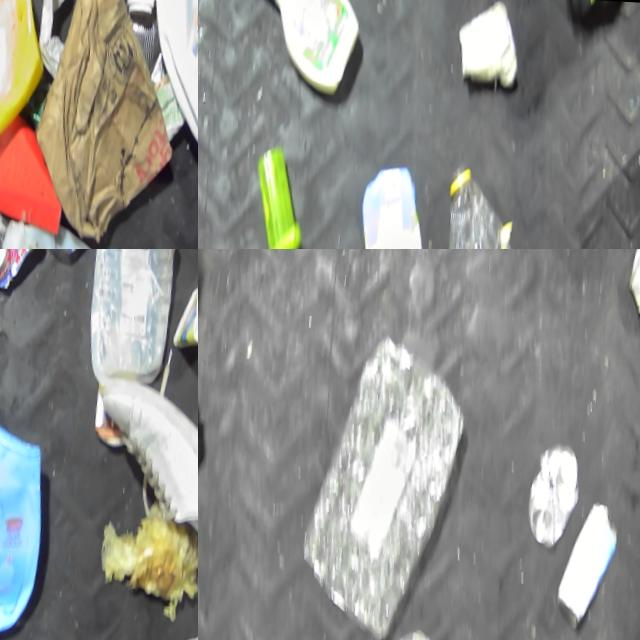can: (532, 431, 603, 539), (617, 249, 640, 318)
milk_jug: (2, 200, 131, 249)
non_white_jug: (0, 416, 63, 640), (0, 0, 60, 150)
plastic_bottle: (291, 325, 500, 636), (440, 158, 559, 249)
